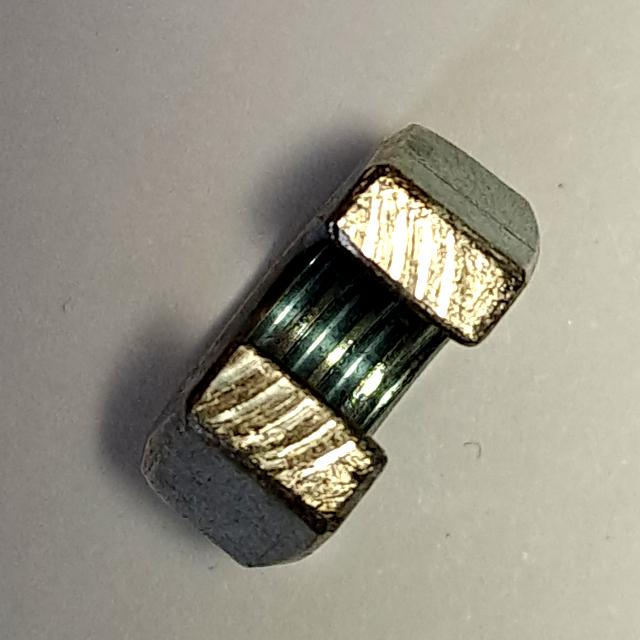Side-Fracture: (126, 113, 556, 582)
